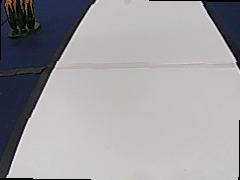corn: (2, 0, 42, 37)
